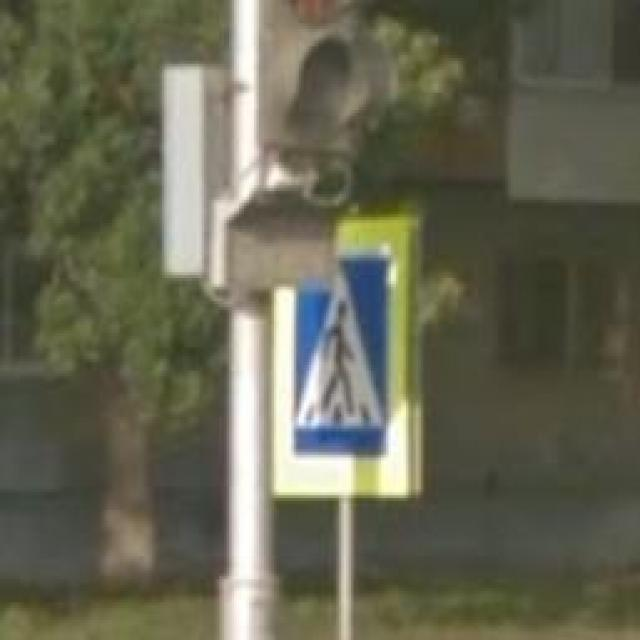Przejscie dla pieszych: (271, 217, 411, 498)
